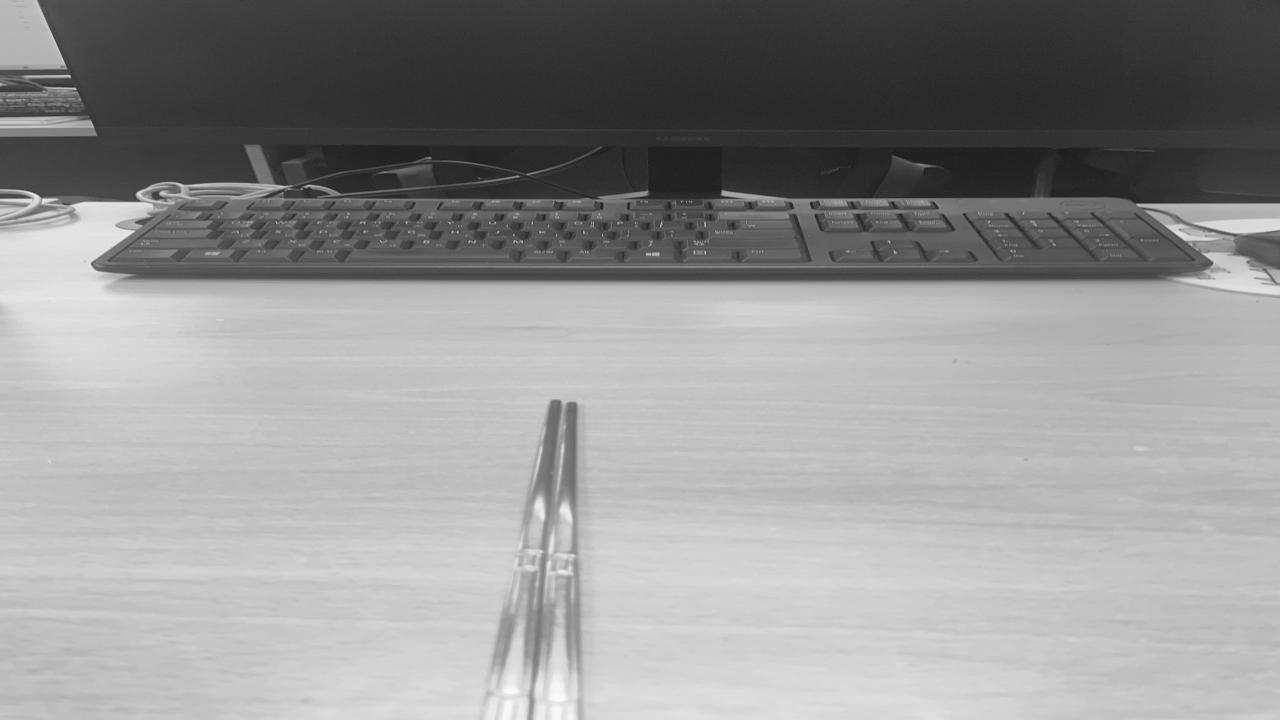chopstick: (487, 401, 584, 720)
